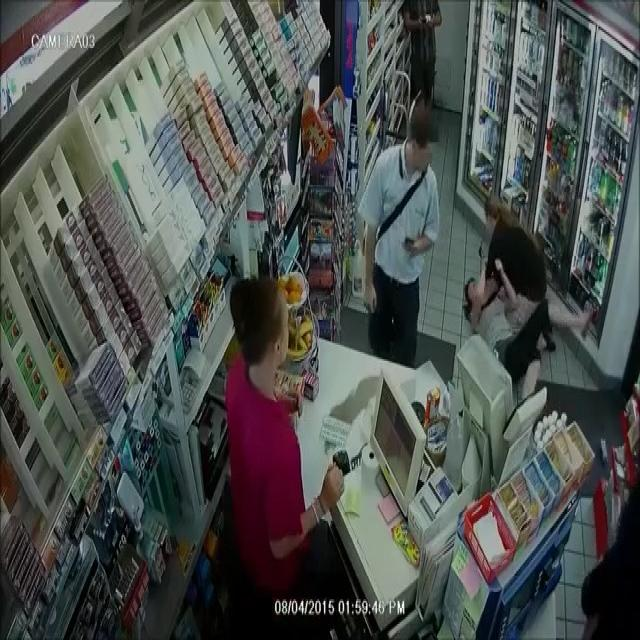fight: (444, 145, 603, 441)
